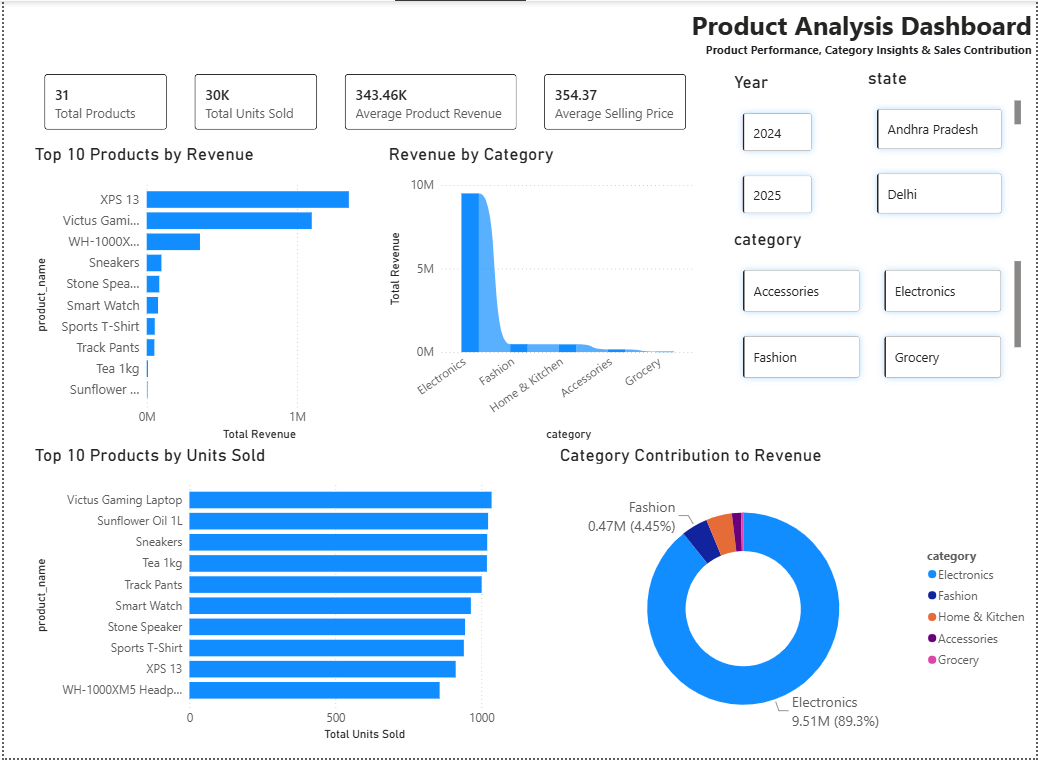

This screenshot's page, from the dashboard's own definition file:
{"tool":"powerbi","page":{"name":"Product_A","canvas":[1280,940],"ordinal":3},"visuals":[{"type":"textbox","box":[0,0,1280,74.3],"z":0},{"type":"cardVisual","fields":{"Data":["_Measure.Total Products"]},"box":[32.9,73.7,186.6,104],"z":1000},{"type":"advancedSlicerVisual","fields":{"Values":["novacart orders.order_date.Variation.Date Hierarchy.Year"]},"box":[900.3,83.9,118.1,197.4],"z":1000,"group":"g1"},{"type":"cardVisual","fields":{"Data":["_Measure.Total Units Sold"]},"box":[219.4,73.7,186.6,104],"z":2000},{"type":"advancedSlicerVisual","fields":{"Values":["novacart customers.state"]},"box":[1066.4,83.9,200.1,197.4],"z":2000,"group":"g1"},{"type":"cardVisual","fields":{"Data":["_Measure.Average Product Revenue"]},"box":[405.9,73.7,247.6,103.4],"z":3000},{"type":"advancedSlicerVisual","fields":{"Values":["novacart products.category"]},"box":[900.3,283.4,366.3,201.6],"z":3000,"group":"g1"},{"type":"cardVisual","fields":{"Data":["_Measure.Average Selling Price"]},"box":[653.5,73.7,210,103.4],"z":4000},{"type":"group","id":"g1","title":"Group 2","box":[900.3,83.9,366.3,403.1],"z":5000},{"type":"clusteredBarChart","title":"Top 10 Products by Revenue","fields":{"Category":["novacart products.product_name"],"Y":["_Measure.Total Revenue"]},"box":[32.7,178,439.9,372.4],"z":6000},{"type":"ribbonChart","title":"Revenue by Category","fields":{"Category":["novacart products.category"],"Y":["_Measure.Total Revenue"]},"box":[472.7,178,390.8,372.4],"z":7000},{"type":"clusteredBarChart","title":"Top 10 Products by Units Sold","fields":{"Category":["novacart products.product_name"],"Y":["_Measure.Total Units Sold"]},"box":[32.7,550.4,652.7,372.4],"z":8000},{"type":"donutChart","title":"Category Contribution to Revenue","fields":{"Category":["novacart products.category"],"Y":["_Measure.Total Revenue"]},"box":[685.4,550.4,595.4,372.4],"z":9000}]}

Visuals, with their boxes in screenshot pixels (x1, y1, x2, y2), scaled from the page's 1280x940 canvas onto the 1038x762 screenshot:
textbox: {"x1": 0, "y1": 0, "x2": 1037, "y2": 60}
cardVisual - _Measure.Total Products: {"x1": 27, "y1": 60, "x2": 178, "y2": 144}
advancedSlicerVisual - novacart orders.order_date.Variation.Date Hierarchy.Year: {"x1": 730, "y1": 68, "x2": 826, "y2": 228}
cardVisual - _Measure.Total Units Sold: {"x1": 178, "y1": 60, "x2": 329, "y2": 144}
advancedSlicerVisual - novacart customers.state: {"x1": 865, "y1": 68, "x2": 1027, "y2": 228}
cardVisual - _Measure.Average Product Revenue: {"x1": 329, "y1": 60, "x2": 530, "y2": 144}
advancedSlicerVisual - novacart products.category: {"x1": 730, "y1": 230, "x2": 1027, "y2": 393}
cardVisual - _Measure.Average Selling Price: {"x1": 530, "y1": 60, "x2": 700, "y2": 144}
"Group 2" group: {"x1": 730, "y1": 68, "x2": 1027, "y2": 395}
"Top 10 Products by Revenue" clusteredBarChart: {"x1": 27, "y1": 144, "x2": 383, "y2": 446}
"Revenue by Category" ribbonChart: {"x1": 383, "y1": 144, "x2": 700, "y2": 446}
"Top 10 Products by Units Sold" clusteredBarChart: {"x1": 27, "y1": 446, "x2": 556, "y2": 748}
"Category Contribution to Revenue" donutChart: {"x1": 556, "y1": 446, "x2": 1037, "y2": 748}
